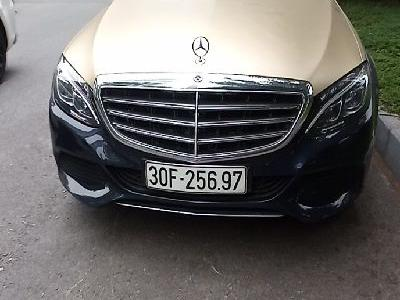car: (145, 160, 248, 196)
